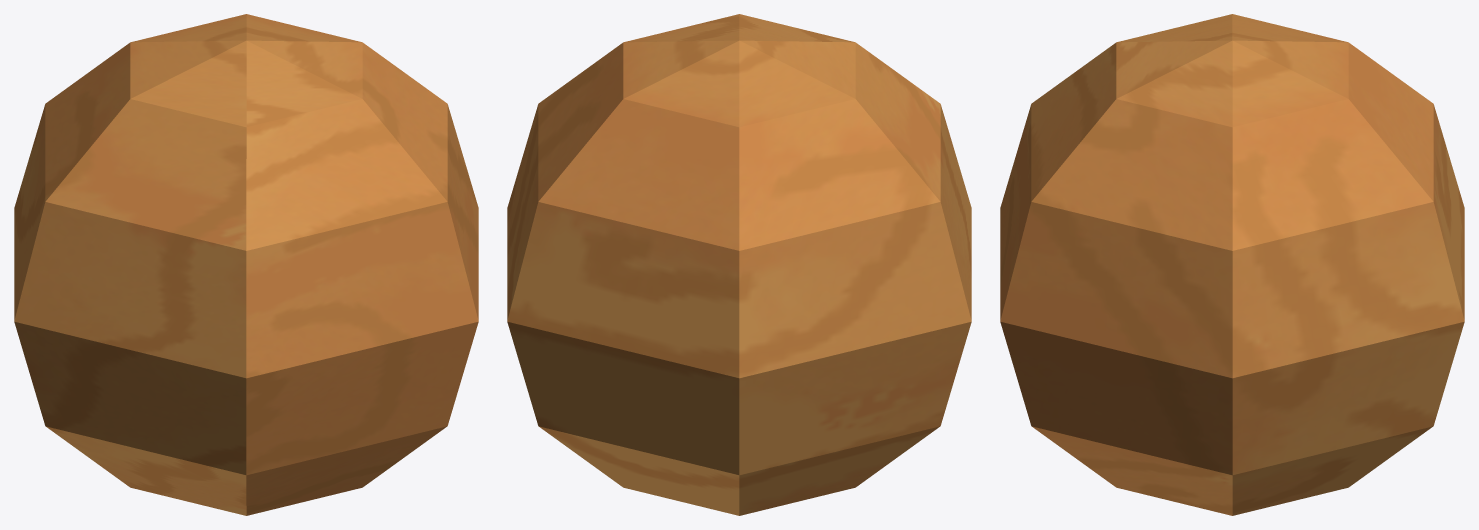
Rendered from SM_planet2.fbx.
The picture shows the model from 3 angles, left to right: view 1: azimuth 30°, elevation 25°; view 2: azimuth 150°, elevation 25°; view 3: azimuth 270°, elevation 25°; orthographic projection.
Visible parts, largest first — view 1: planet2; view 2: planet2; view 3: planet2.
Part boxes in pixels (<box>): planet2: <box>14,14,478,515</box>; planet2: <box>507,14,971,515</box>; planet2: <box>1000,14,1464,515</box>.
Bounding box in the file's own units: 16.97 × 15.67 × 14.7.
